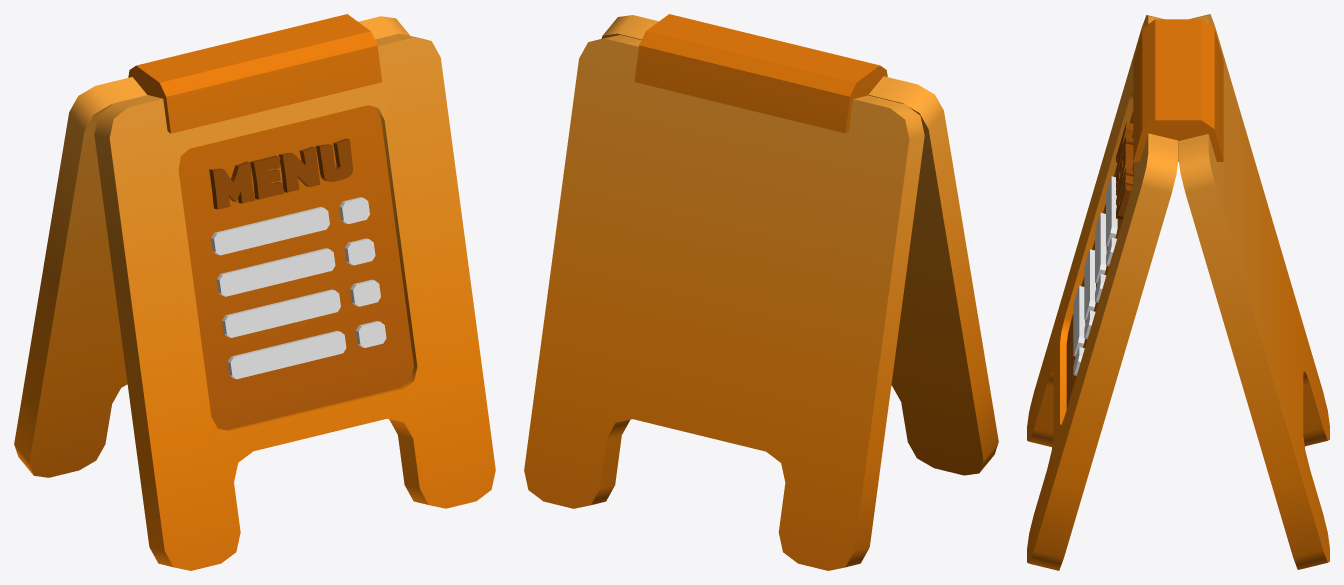
Rendered from Menu_Board_01.fbx.
The picture shows the model from 3 angles, left to right: view 1: azimuth 30°, elevation 25°; view 2: azimuth 150°, elevation 25°; view 3: azimuth 270°, elevation 25°; orthographic projection. The views are drawn at different scales.
Visible parts, largest first — view 1: Menu_Board_01; view 2: Menu_Board_01; view 3: Menu_Board_01.
Part boxes in pixels (<box>): Menu_Board_01: <box>14,14,495,570</box>; Menu_Board_01: <box>524,14,998,570</box>; Menu_Board_01: <box>1027,14,1329,570</box>.
Bounding box in the file's own units: 104 × 131 × 83.59.
